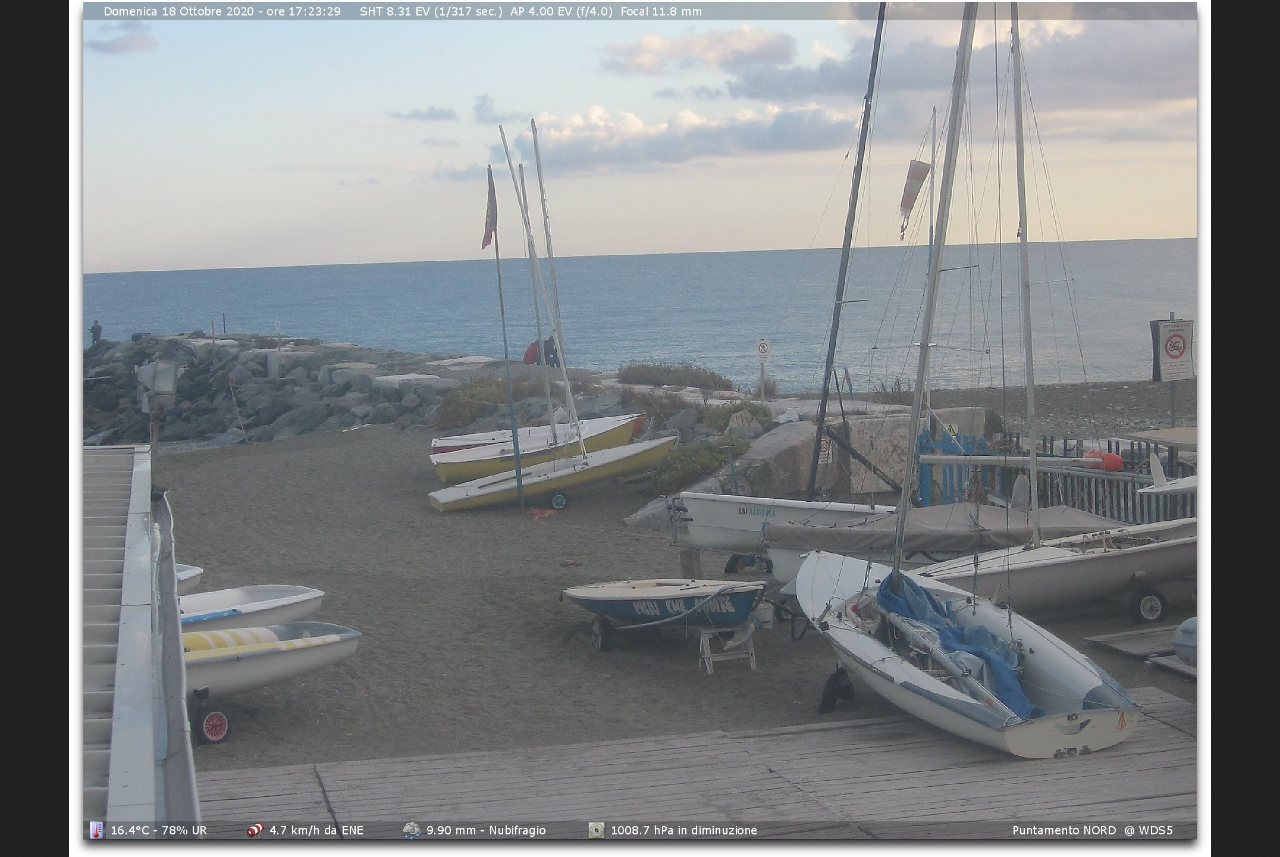no: (480, 166, 501, 254)
